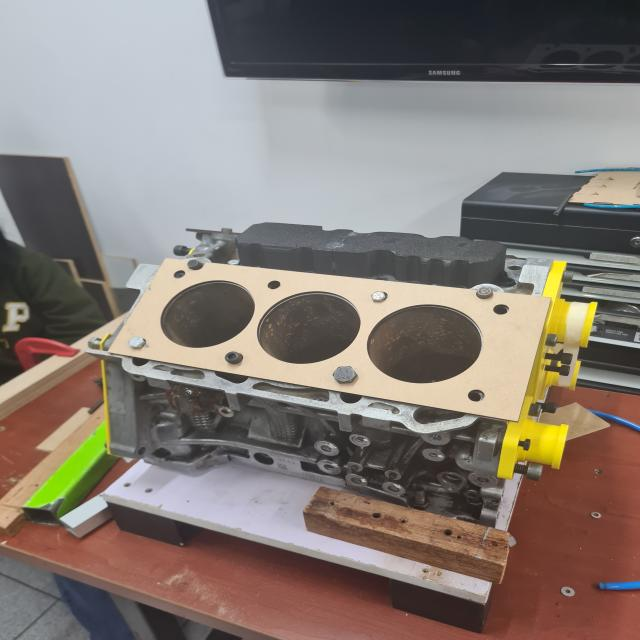vista1: (105, 257, 550, 421)
